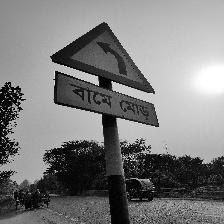Left-Turn: (50, 21, 159, 127)
